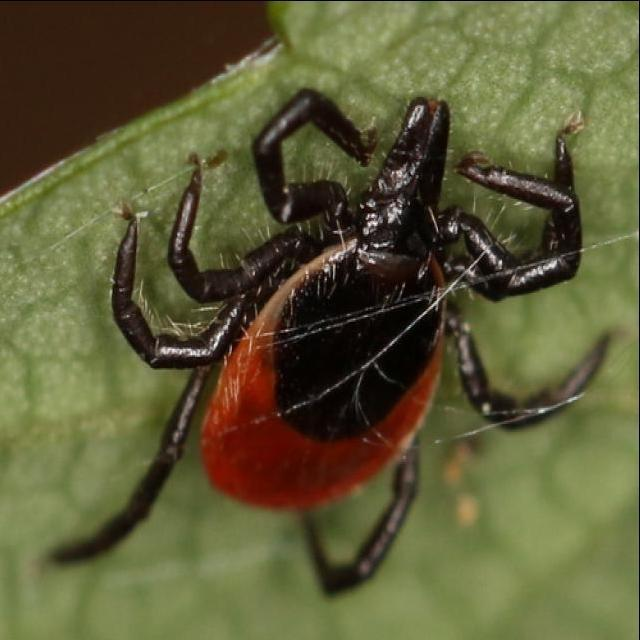Ixodes Ricinus-F: (54, 88, 616, 597)
